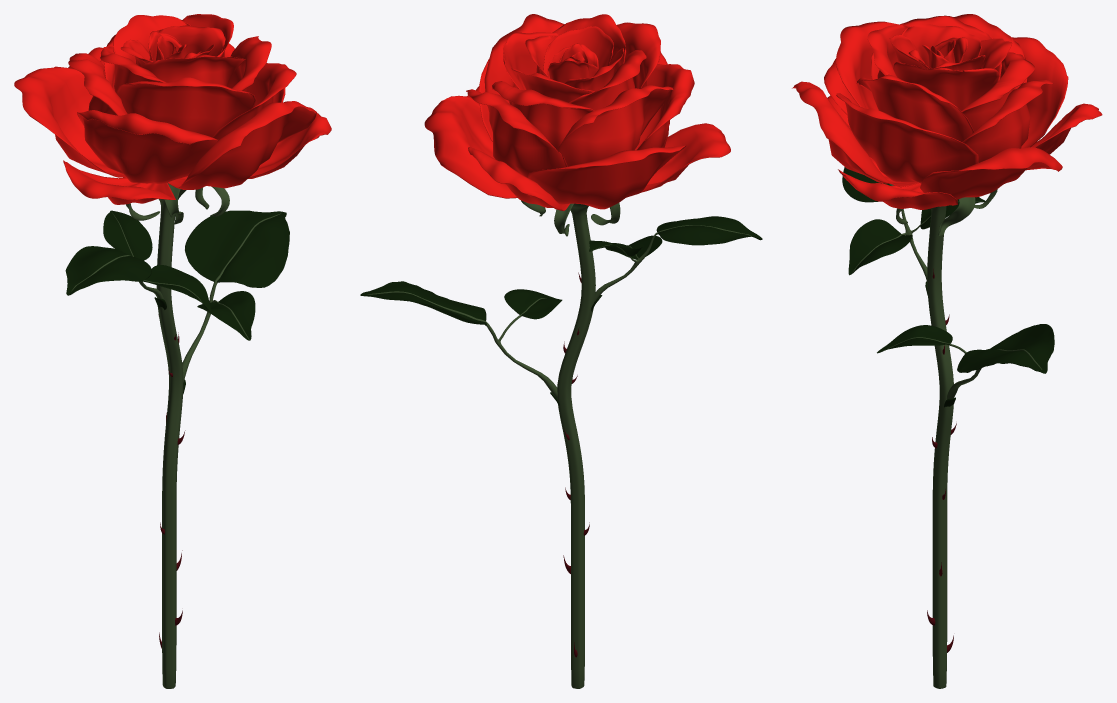
Rendered from ROSE.glb.
3 views of the same model, side by side, from view 1: azimuth 30°, elevation 25°; view 2: azimuth 150°, elevation 25°; view 3: azimuth 270°, elevation 25° (orthographic).
Visible parts, largest first — view 1: ruža; view 2: ruža; view 3: ruža.
Boxes of the visible parts, x1=… form: ruža: x1=14, y1=14, x2=331, y2=688; ruža: x1=360, y1=14, x2=762, y2=688; ruža: x1=792, y1=14, x2=1102, y2=688.
Size of the model in its own units: 52.63 by 105 by 45.18.
